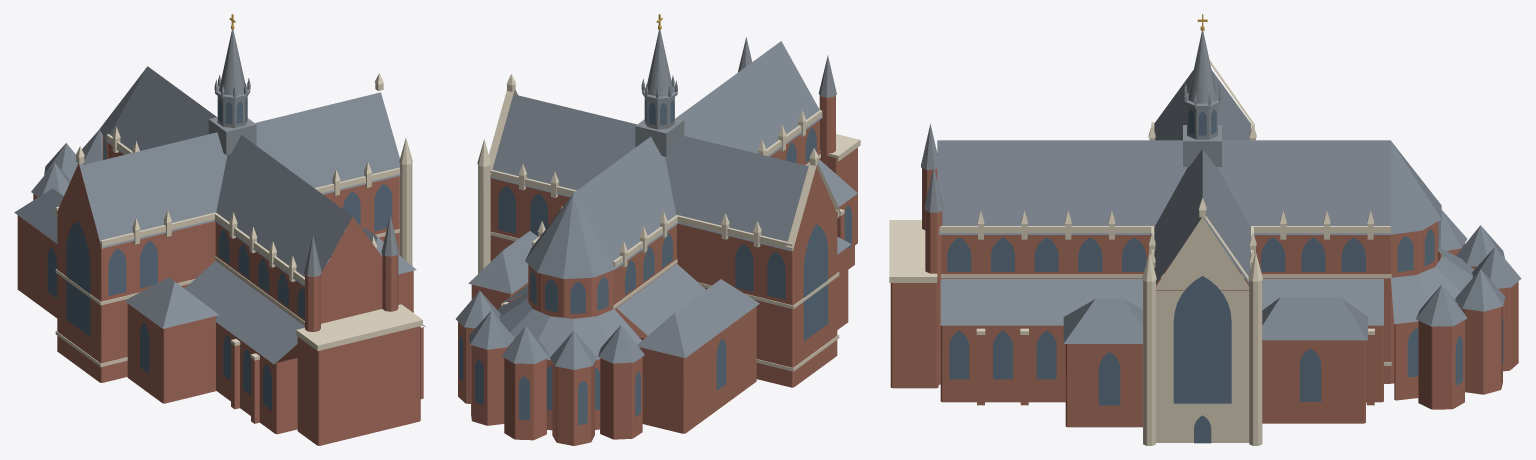
File: amsterdam-nieuwe-kerk.glb
The picture shows the model from 3 angles, left to right: view 1: azimuth 30°, elevation 25°; view 2: azimuth 150°, elevation 25°; view 3: azimuth 270°, elevation 25°; orthographic projection. The views are drawn at different scales.
Visible parts, largest first — view 1: Nieuwe Kerk; view 2: Nieuwe Kerk; view 3: Nieuwe Kerk.
Boxes of the visible parts, box(x1,y1,x2,y2) form: Nieuwe Kerk: box(14, 14, 425, 445); Nieuwe Kerk: box(456, 14, 860, 445); Nieuwe Kerk: box(889, 14, 1521, 445).
Bounding box in the file's own units: 59.01 × 57.2 × 94.05.
